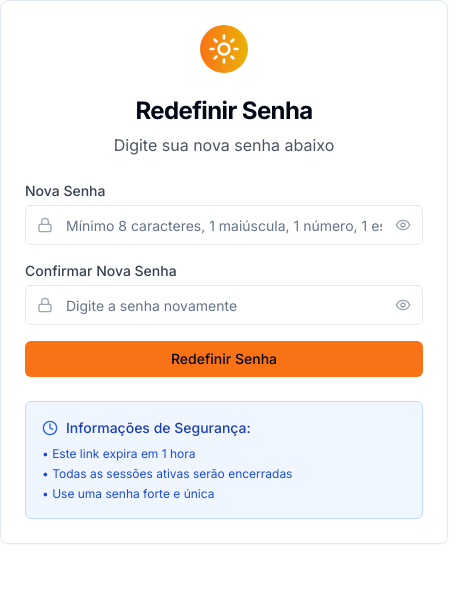
it: PasswordResetForm › displays password strength correctly for strong password
Type "StrongPass123!" into the password field with test id "password-input".
click(224, 225); type("StrongPass123!")  # box [25,205,423,245]
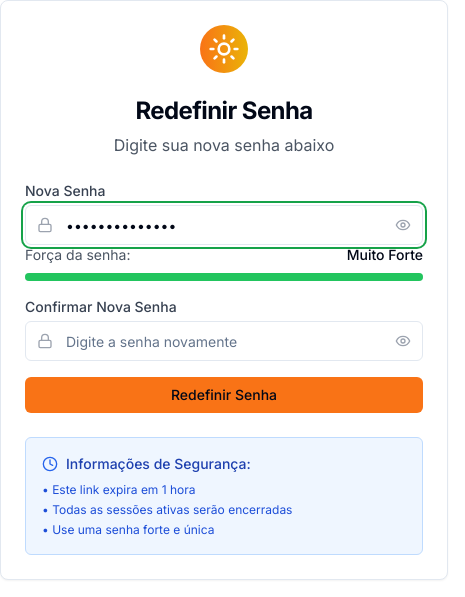
expect the text with test id "strength-label" reads "Muito Forte": met, box [347,246,423,263]
